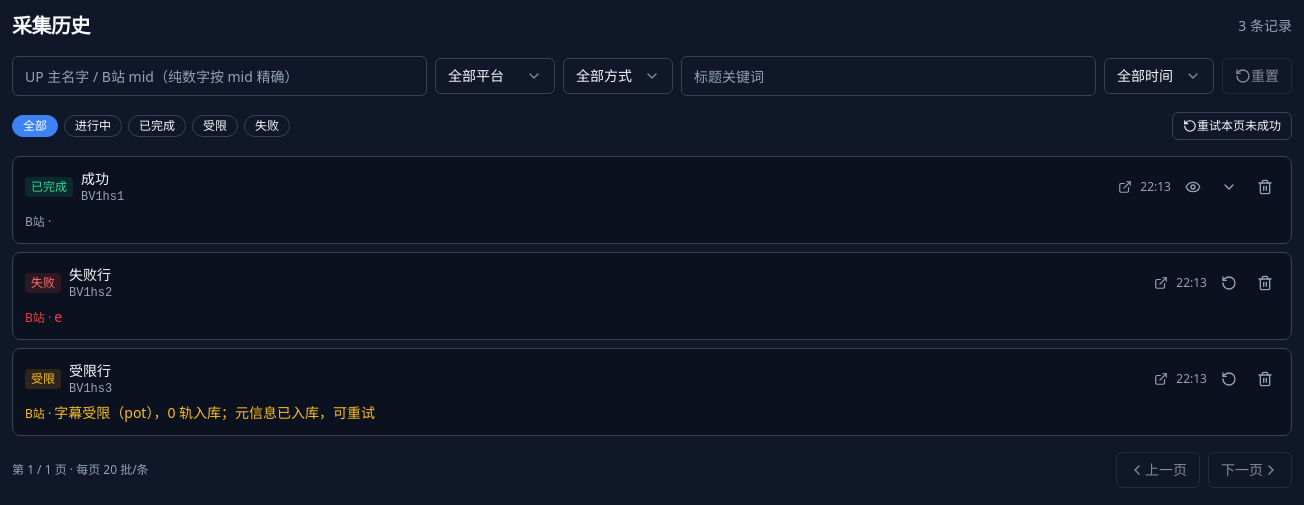
Scenario: 重试本页未成功：failed+limited 全发 retry 端点；toast 汇总 + reload
The width and height of the screenshot is (1304, 505).
Expected: the text "失败行" is shown, [69,265,111,284]
Click the button "重试本页未成功". click: (1232, 126)
box: [1172,112,1292,140]
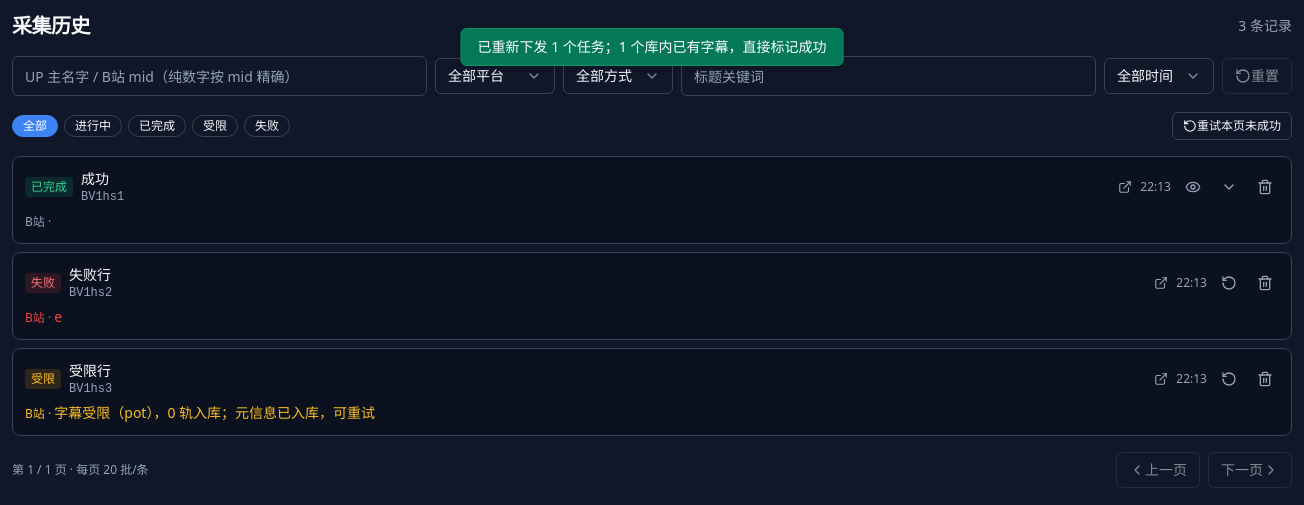
Expected: the text "已重新下发 1 个任务；1 个库内已有字幕，直接标记成功" is shown, [460,28,843,66]
